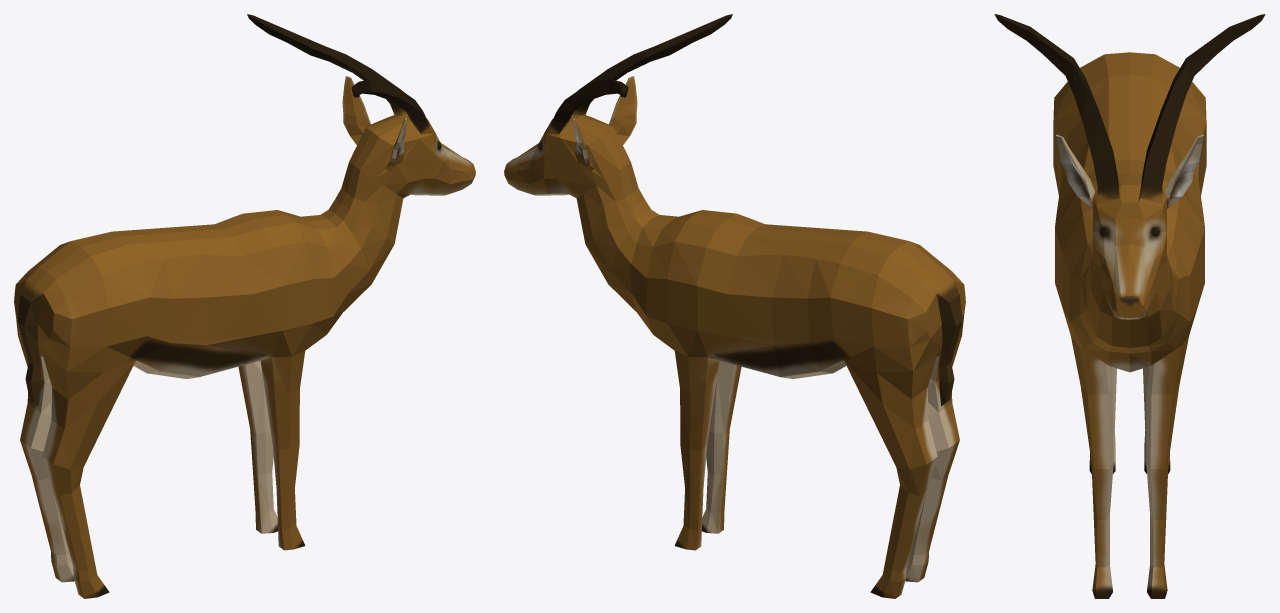
File: Gazelle.fbx
3 views of the same model, side by side, from view 1: azimuth 30°, elevation 25°; view 2: azimuth 150°, elevation 25°; view 3: azimuth 270°, elevation 25° (orthographic). The views are drawn at different scales.
Parts seen in each view (by area): view 1: Plane; view 2: Plane; view 3: Plane.
Boxes of the visible parts, x1=… form: Plane: x1=14, y1=14, x2=475, y2=598; Plane: x1=504, y1=14, x2=965, y2=598; Plane: x1=994, y1=14, x2=1265, y2=598.
Size of the model in its own units: 136 by 138 by 57.61.
Materials: 1 (1 with a texture image).
